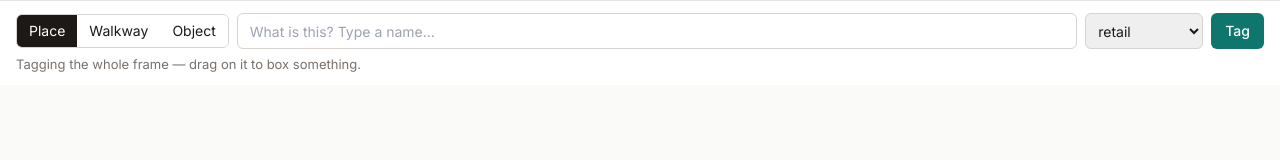
it: tagging a walkway › hides the tenant category, which means nothing for a walkway
Click the button with test id "what-walkway". click: (119, 31)
box: [77, 15, 160, 47]
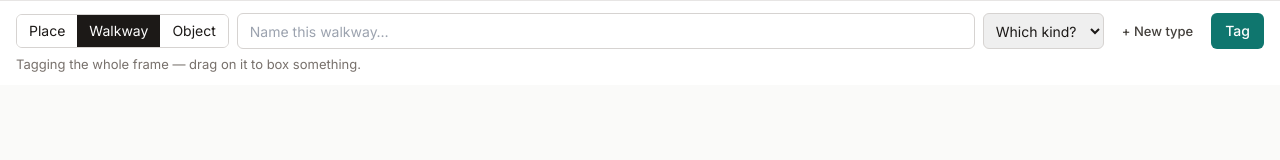
Now the dropdown labelled "Category" is gone
